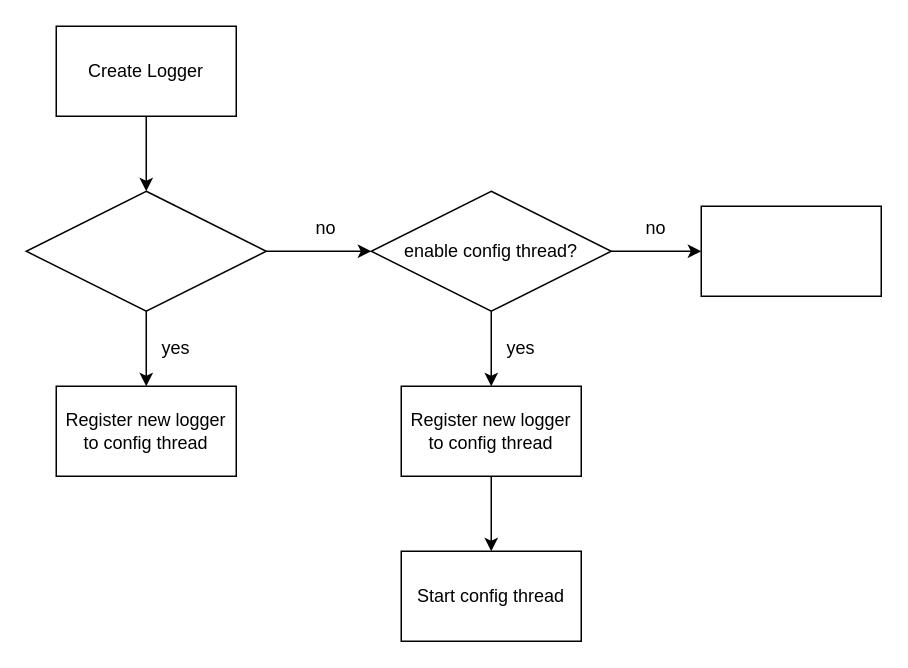
Some shapes in this 908 by 668 pixel diagram are drawn without their labels. Each missing label, with the box of its shape:
config thread started?: (25, 190, 266, 311)
End: (700, 205, 881, 296)
